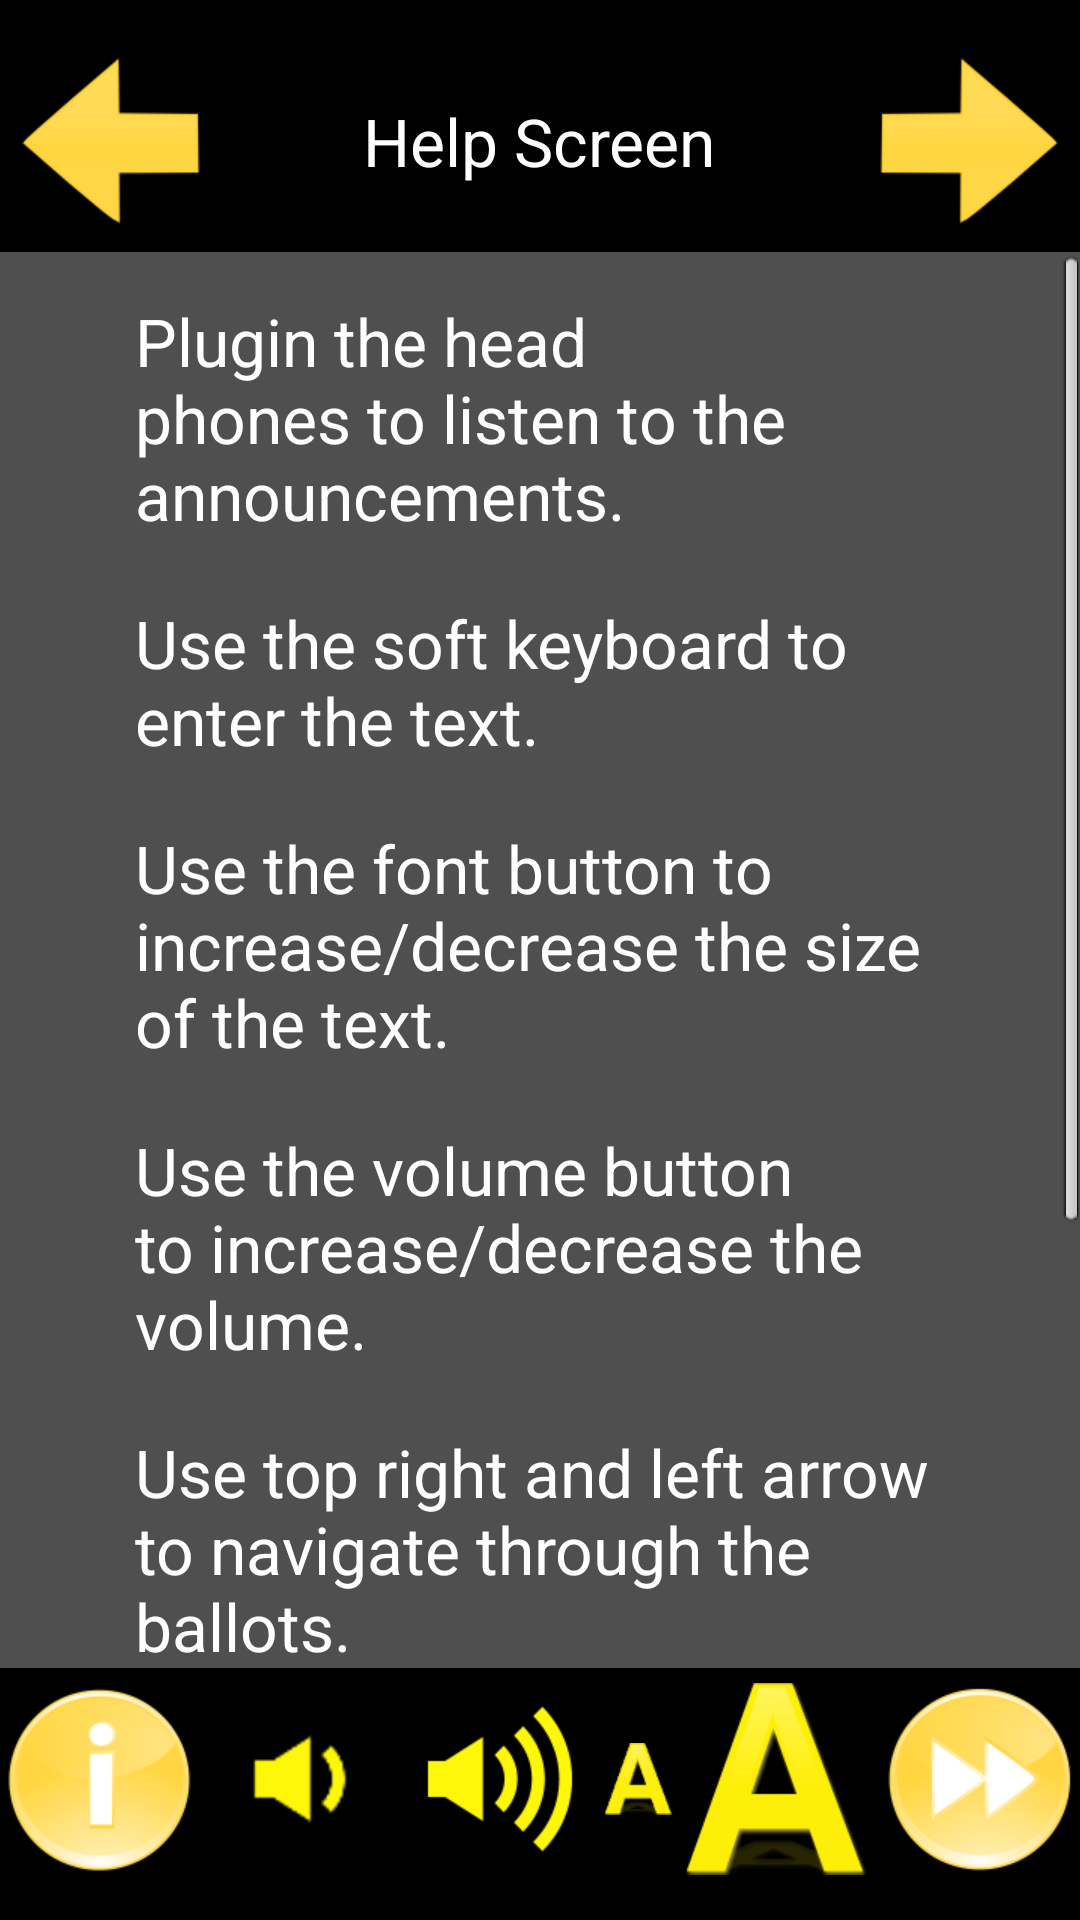

Icons on this 1080px×1920px Android screen, each with the point to tap as point (x, y):
end: point (979, 1779)
help: point (99, 1780)
next: point (969, 141)
previous: point (111, 141)
vol dec: point (300, 1779)
vol inc: point (500, 1779)
